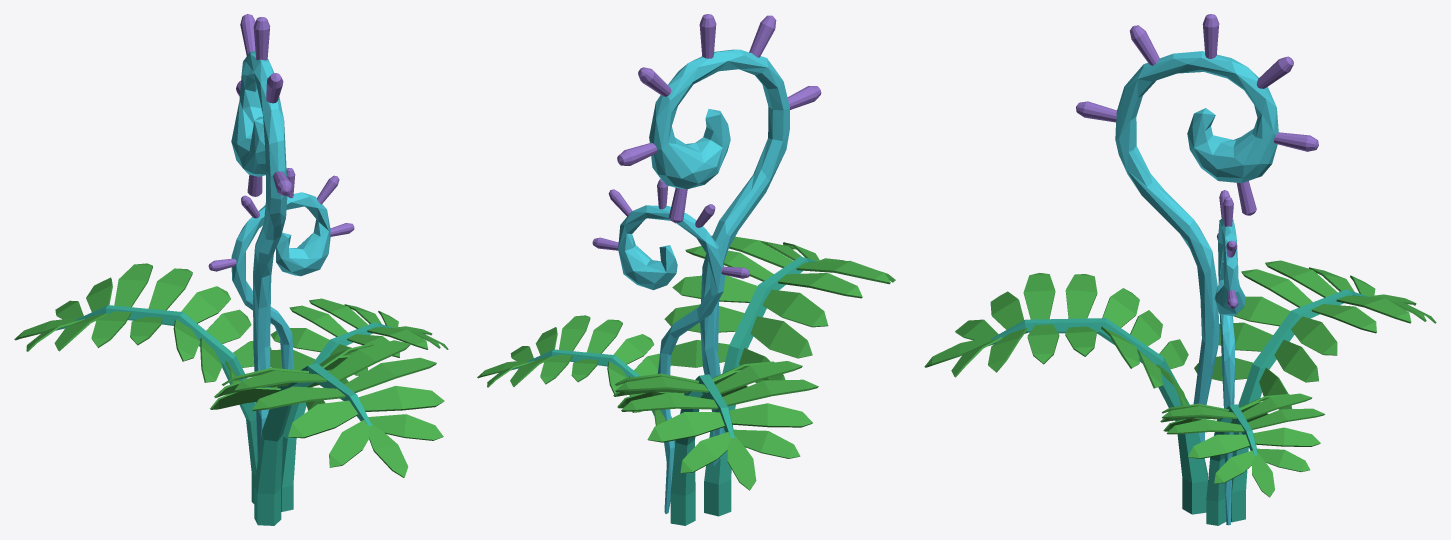
The model's file is fantasy_plant_053.fbx.
3 views of the same model, side by side, from view 1: azimuth 30°, elevation 25°; view 2: azimuth 150°, elevation 25°; view 3: azimuth 270°, elevation 25° (orthographic).
Visible parts, largest first — view 1: fantasy_plant.053; view 2: fantasy_plant.053; view 3: fantasy_plant.053.
Part boxes in pixels (bbox=[...]): fantasy_plant.053: bbox=[14, 14, 448, 525]; fantasy_plant.053: bbox=[477, 14, 895, 525]; fantasy_plant.053: bbox=[924, 14, 1436, 525].
Bounding box in the file's own units: 613 × 802 × 751.
Materials: 1 (1 with a texture image).
